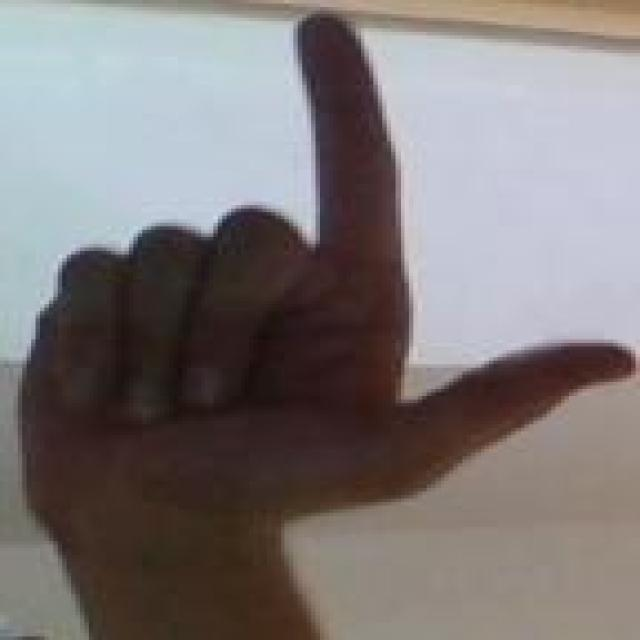L: (26, 2, 640, 640)
